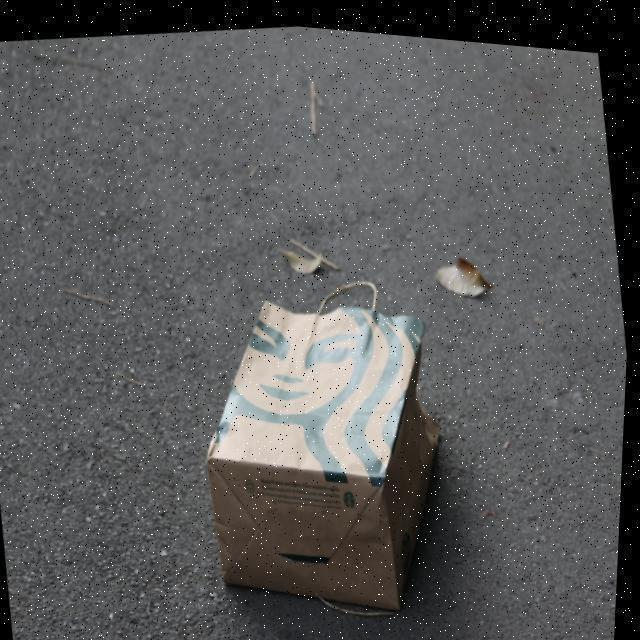Paper_Bag: (180, 252, 475, 634)
